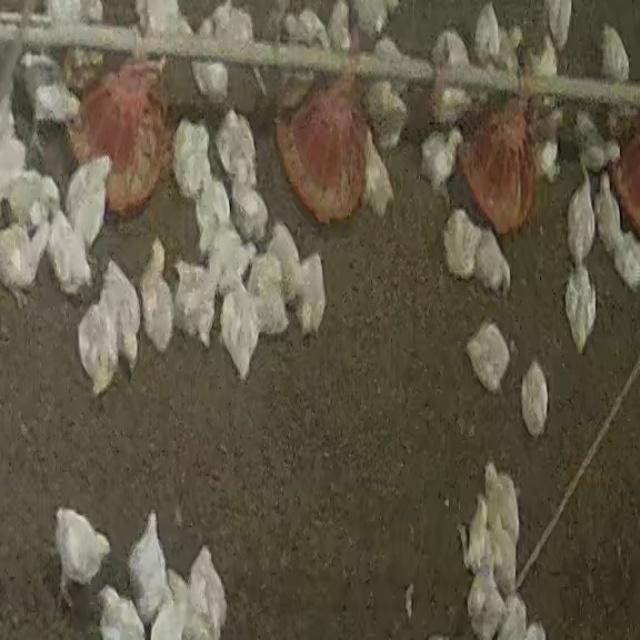chicken: (22, 54, 80, 161), (53, 506, 111, 605), (99, 257, 142, 380), (480, 464, 520, 595), (0, 213, 50, 310), (128, 510, 169, 624), (47, 203, 94, 299), (65, 158, 112, 253), (244, 248, 294, 337), (172, 256, 220, 346), (219, 286, 264, 379), (139, 238, 175, 354), (77, 302, 116, 399), (214, 107, 261, 187), (2, 168, 57, 236), (172, 117, 214, 204), (204, 216, 250, 295), (188, 546, 228, 636), (465, 561, 508, 640), (194, 176, 233, 261), (360, 128, 396, 219), (363, 78, 408, 150), (265, 220, 303, 304), (566, 168, 598, 267), (229, 175, 271, 247), (594, 170, 626, 264), (419, 131, 463, 199), (573, 111, 619, 175), (292, 252, 327, 336), (466, 321, 508, 389), (564, 265, 596, 354), (97, 585, 148, 640), (162, 570, 203, 638), (442, 211, 478, 283), (198, 1, 252, 48), (474, 227, 509, 299), (532, 101, 560, 188), (462, 494, 490, 574), (132, 0, 194, 35), (522, 364, 548, 440), (610, 228, 640, 293), (432, 29, 473, 75), (351, 1, 398, 41), (600, 22, 631, 82), (191, 59, 231, 105), (474, 2, 503, 64), (495, 601, 541, 640), (544, 0, 574, 52), (429, 90, 473, 123), (327, 0, 352, 50), (530, 34, 557, 80), (497, 23, 522, 69)
